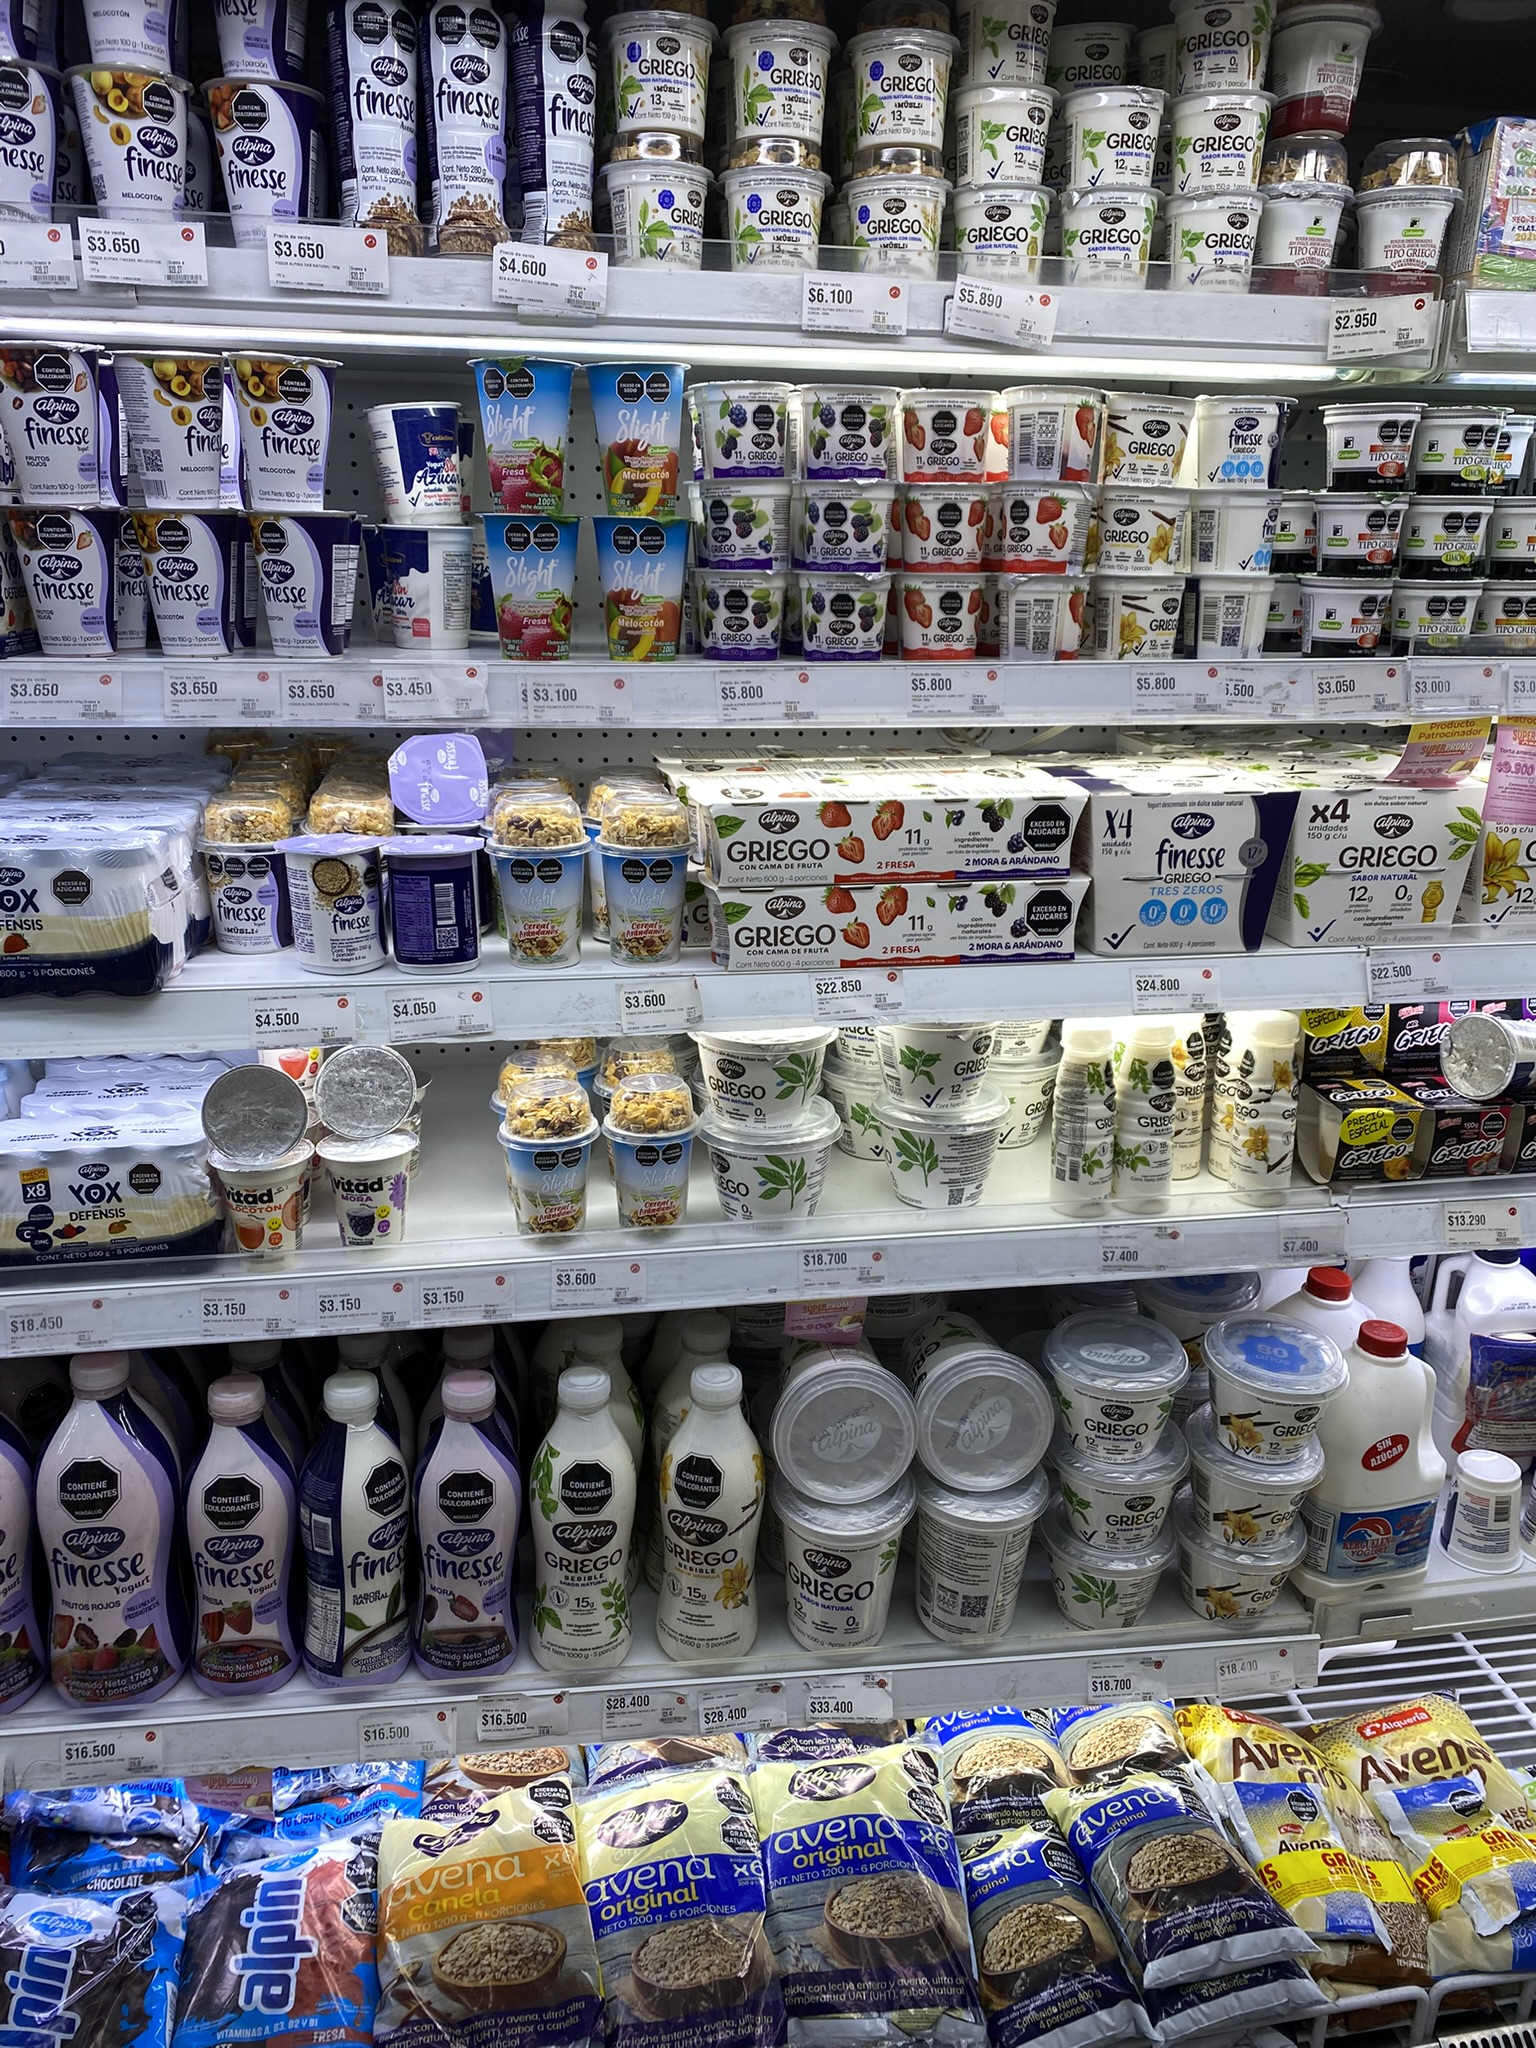Yogurt Griego: (916, 1466, 1049, 1658), (766, 1488, 904, 1666), (1041, 1314, 1192, 1455), (684, 1030, 845, 1132), (871, 1005, 1018, 1116), (697, 1118, 834, 1224), (871, 1101, 1004, 1208), (1057, 1458, 1204, 1550), (954, 82, 1060, 194), (1070, 82, 1173, 189), (1052, 1546, 1168, 1632), (1057, 182, 1155, 281), (1184, 87, 1271, 185), (952, 190, 1044, 279), (1173, 185, 1258, 276), (958, 0, 1052, 77), (1173, 3, 1267, 79)
